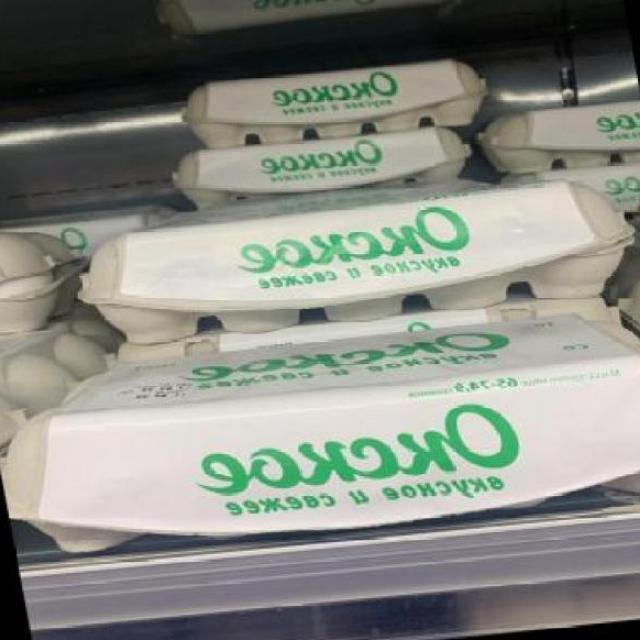Egg: (64, 172, 640, 350), (170, 53, 498, 155), (167, 122, 478, 213), (0, 221, 90, 338)
